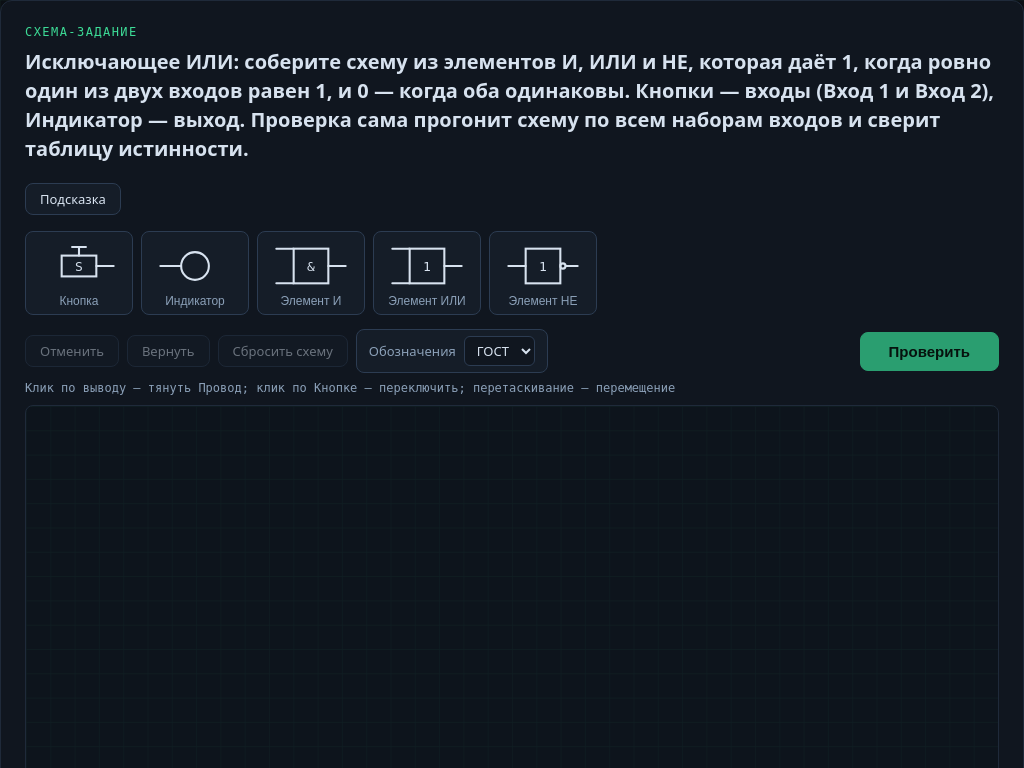
Test case: Кнопка «Проверить» на цифровом Схема-задании › пустой Холст → структурный Диагноз без таблицы истинности
Click the button "Проверить" at point(929, 351), box [860, 332, 999, 370]
(page scrolled)
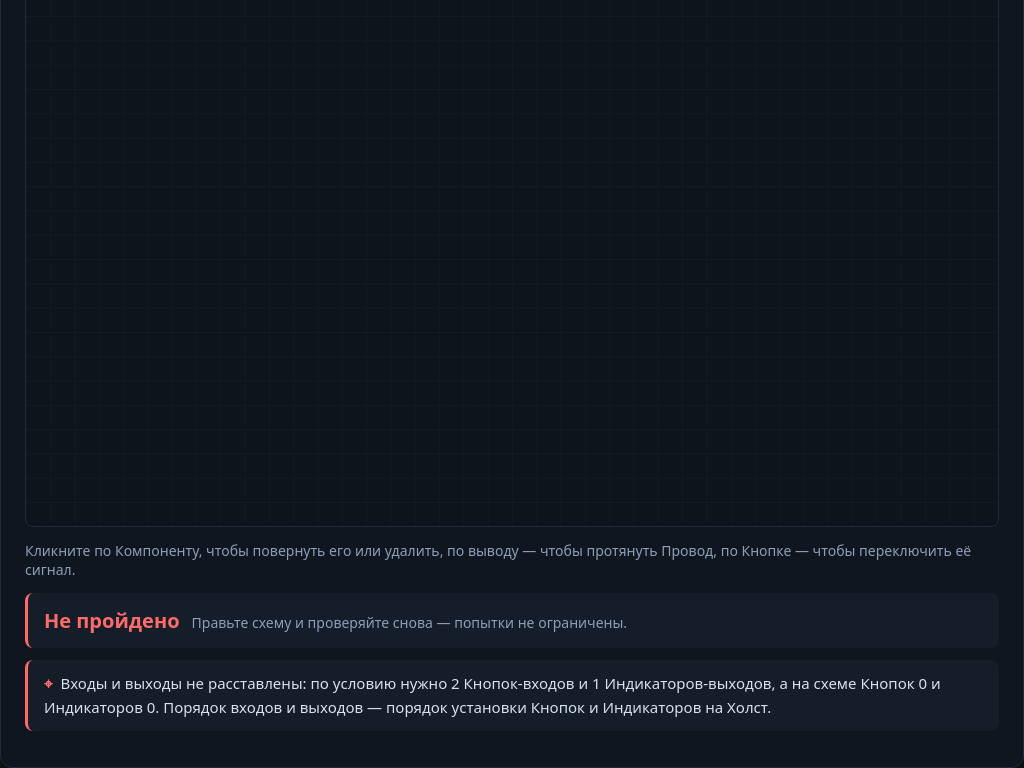
expect the text "Не пройдено" is shown: met, box [44, 607, 180, 634]
expect the text "Входы и выходы не расставлены" is shown: met, box [44, 673, 941, 717]
